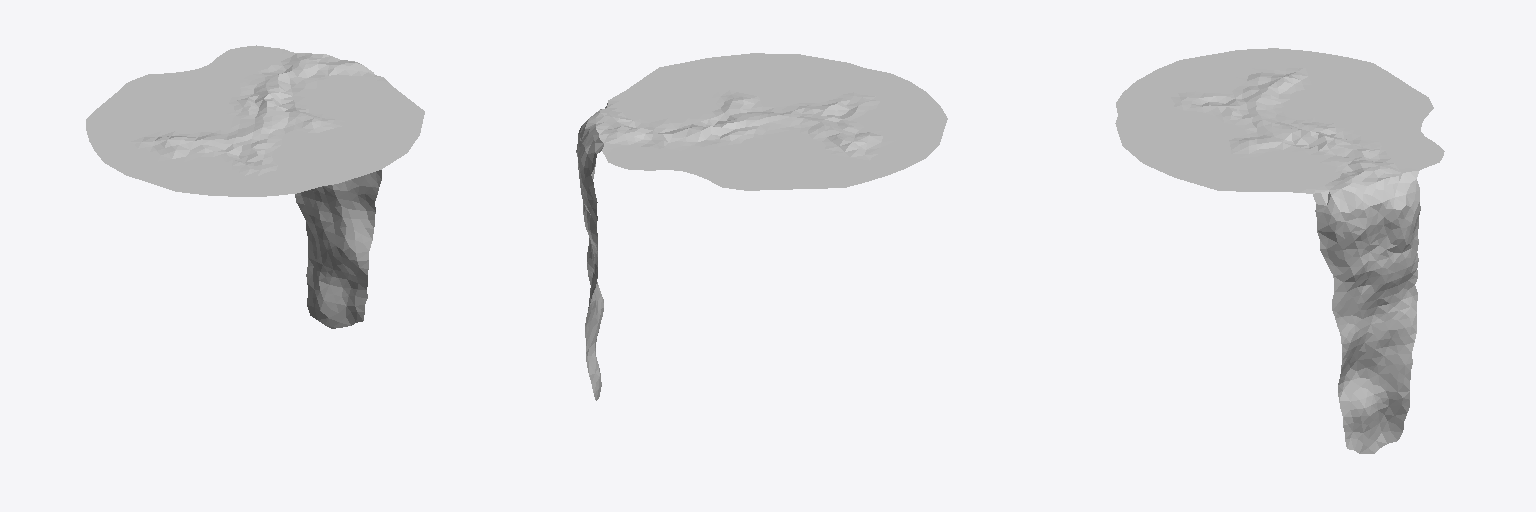
File: island_2_snow_floor.obj
3 renders of one model, left to right at view 1: azimuth 30°, elevation 25°; view 2: azimuth 150°, elevation 25°; view 3: azimuth 270°, elevation 25°, orthographic.
Parts seen in each view (by area): view 1: Snow group1; view 2: Snow group1; view 3: Snow group1.
Part boxes in pixels (bbox=[...]): Snow group1: bbox=[86, 45, 424, 328]; Snow group1: bbox=[576, 53, 947, 400]; Snow group1: bbox=[1115, 48, 1444, 453].
Size of the model in its own units: 14.12 by 12.02 by 13.05.